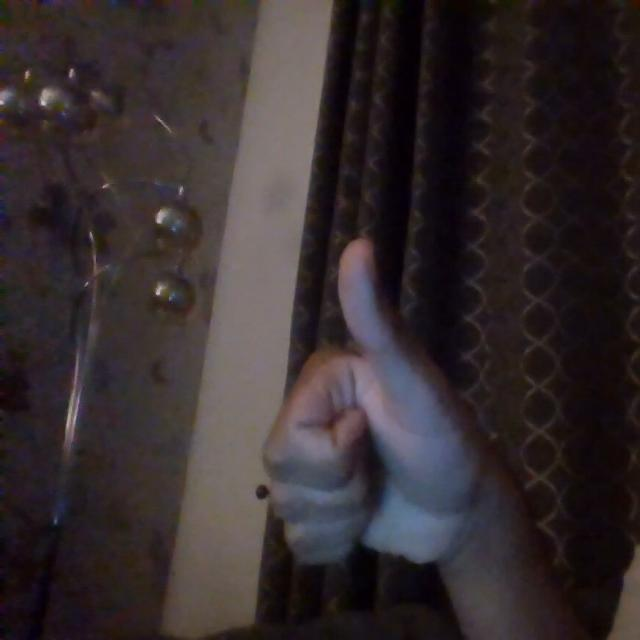hand thumb up: (266, 237, 494, 573)
